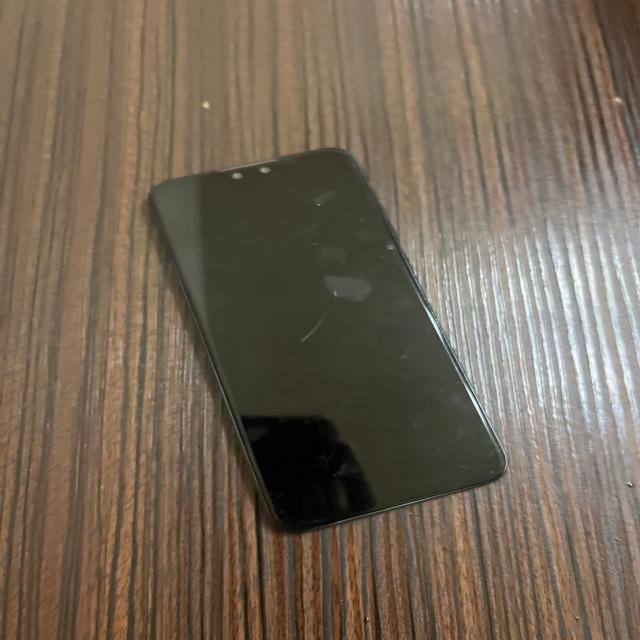Smartphone: (127, 135, 531, 563)
